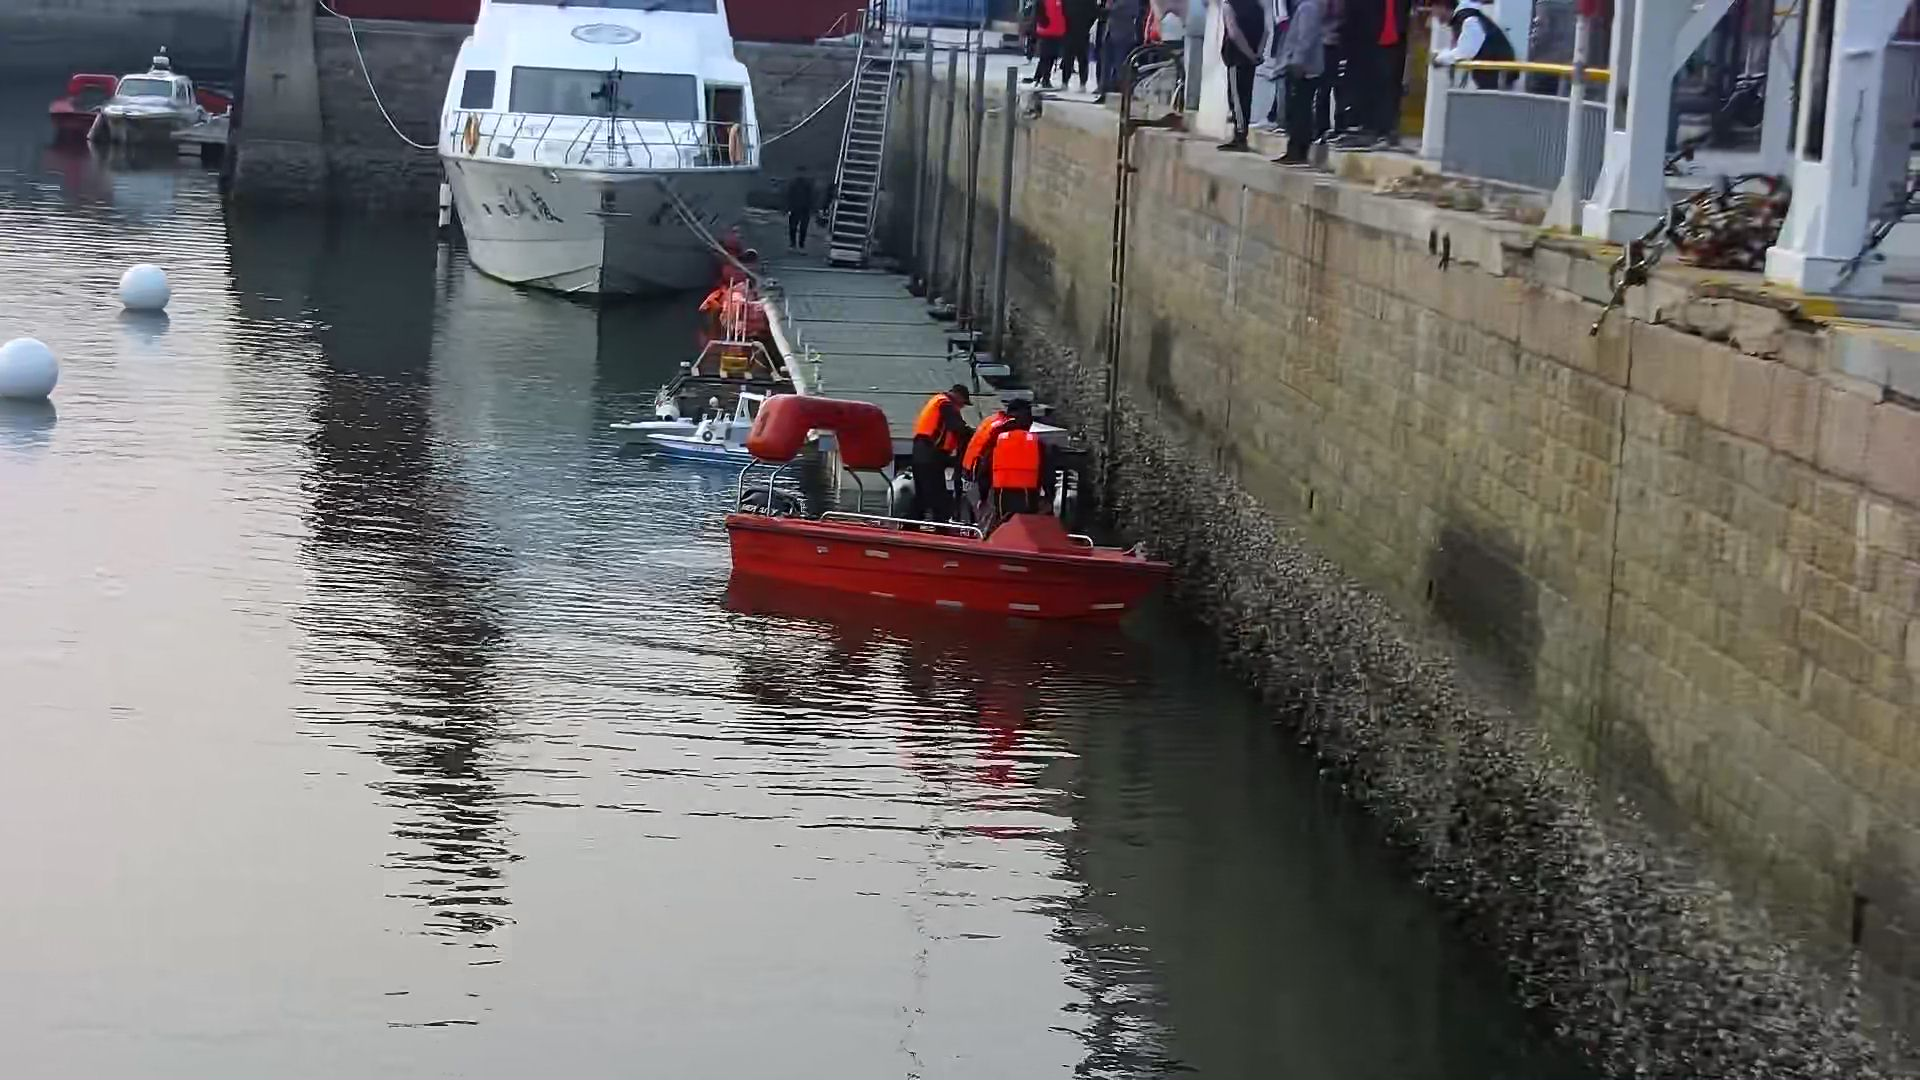ball: (1, 339, 69, 407), (116, 264, 178, 316)
boat: (735, 396, 1176, 639), (47, 73, 121, 139)
harbor: (720, 202, 1044, 493)
person: (915, 374, 957, 531), (992, 403, 1029, 541)
ship: (432, 1, 762, 298), (105, 59, 201, 151)
